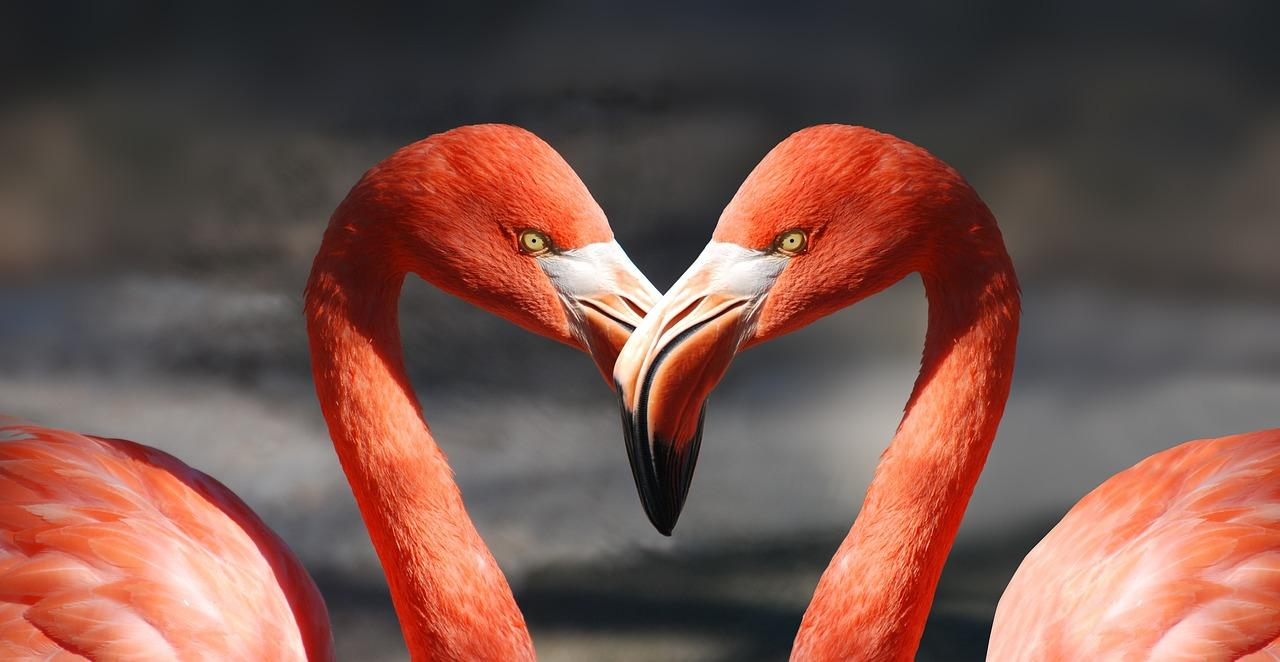bird: (306, 124, 1019, 661), (0, 425, 332, 661), (988, 429, 1279, 661)
